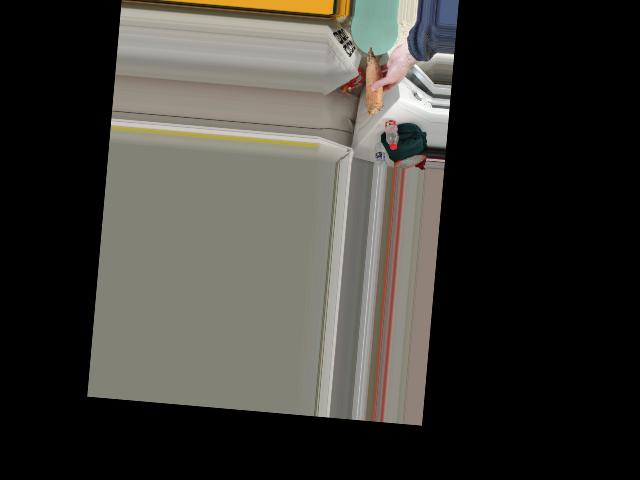sweet_potato: (364, 46, 384, 118)
